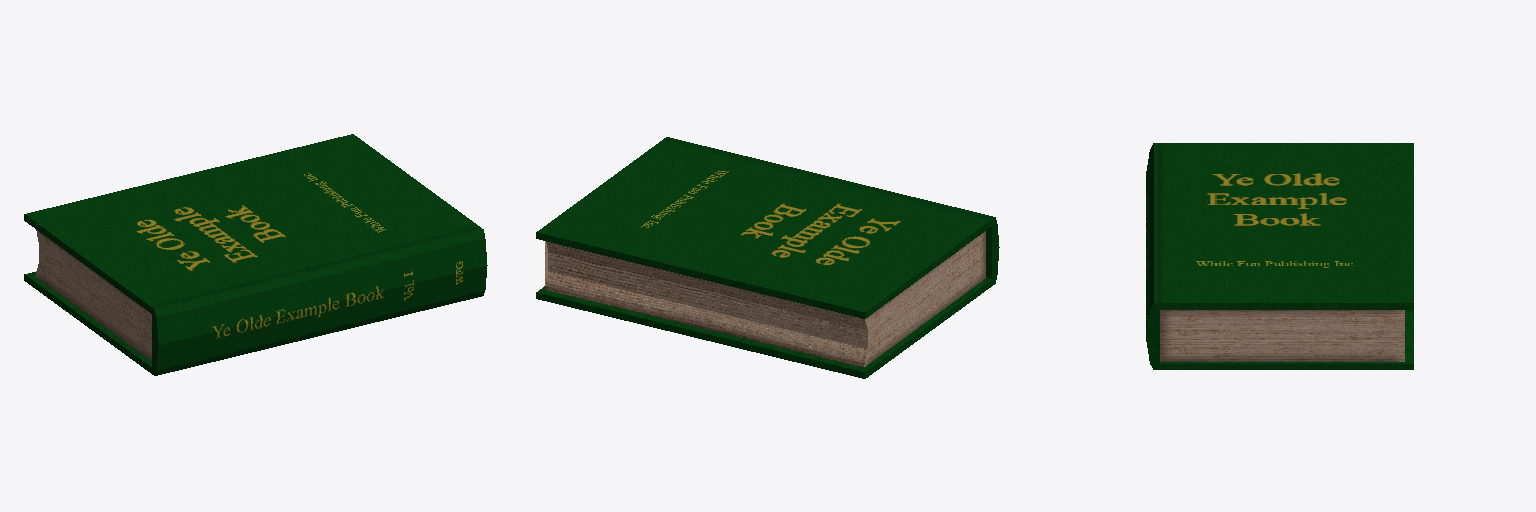
3 renders of one model, left to right at view 1: azimuth 30°, elevation 25°; view 2: azimuth 150°, elevation 25°; view 3: azimuth 270°, elevation 25°, orthographic.
Parts seen in each view (by area): view 1: Book_Cube, Title_Plane; view 2: Book_Cube, Title_Plane; view 3: Book_Cube, Title_Plane.
Boxes of the visible parts, x1=… form: Book_Cube: x1=24, y1=134, x2=487, y2=375; Title_Plane: x1=93, y1=160, x2=409, y2=286; Book_Cube: x1=536, y1=137, x2=999, y2=378; Title_Plane: x1=614, y1=160, x2=932, y2=285; Book_Cube: x1=1146, y1=143, x2=1413, y2=369; Title_Plane: x1=1180, y1=166, x2=1377, y2=272.
Bounding box in the file's own units: 1.03 × 0.2034 × 0.7285.
2 materials, 1 textured.